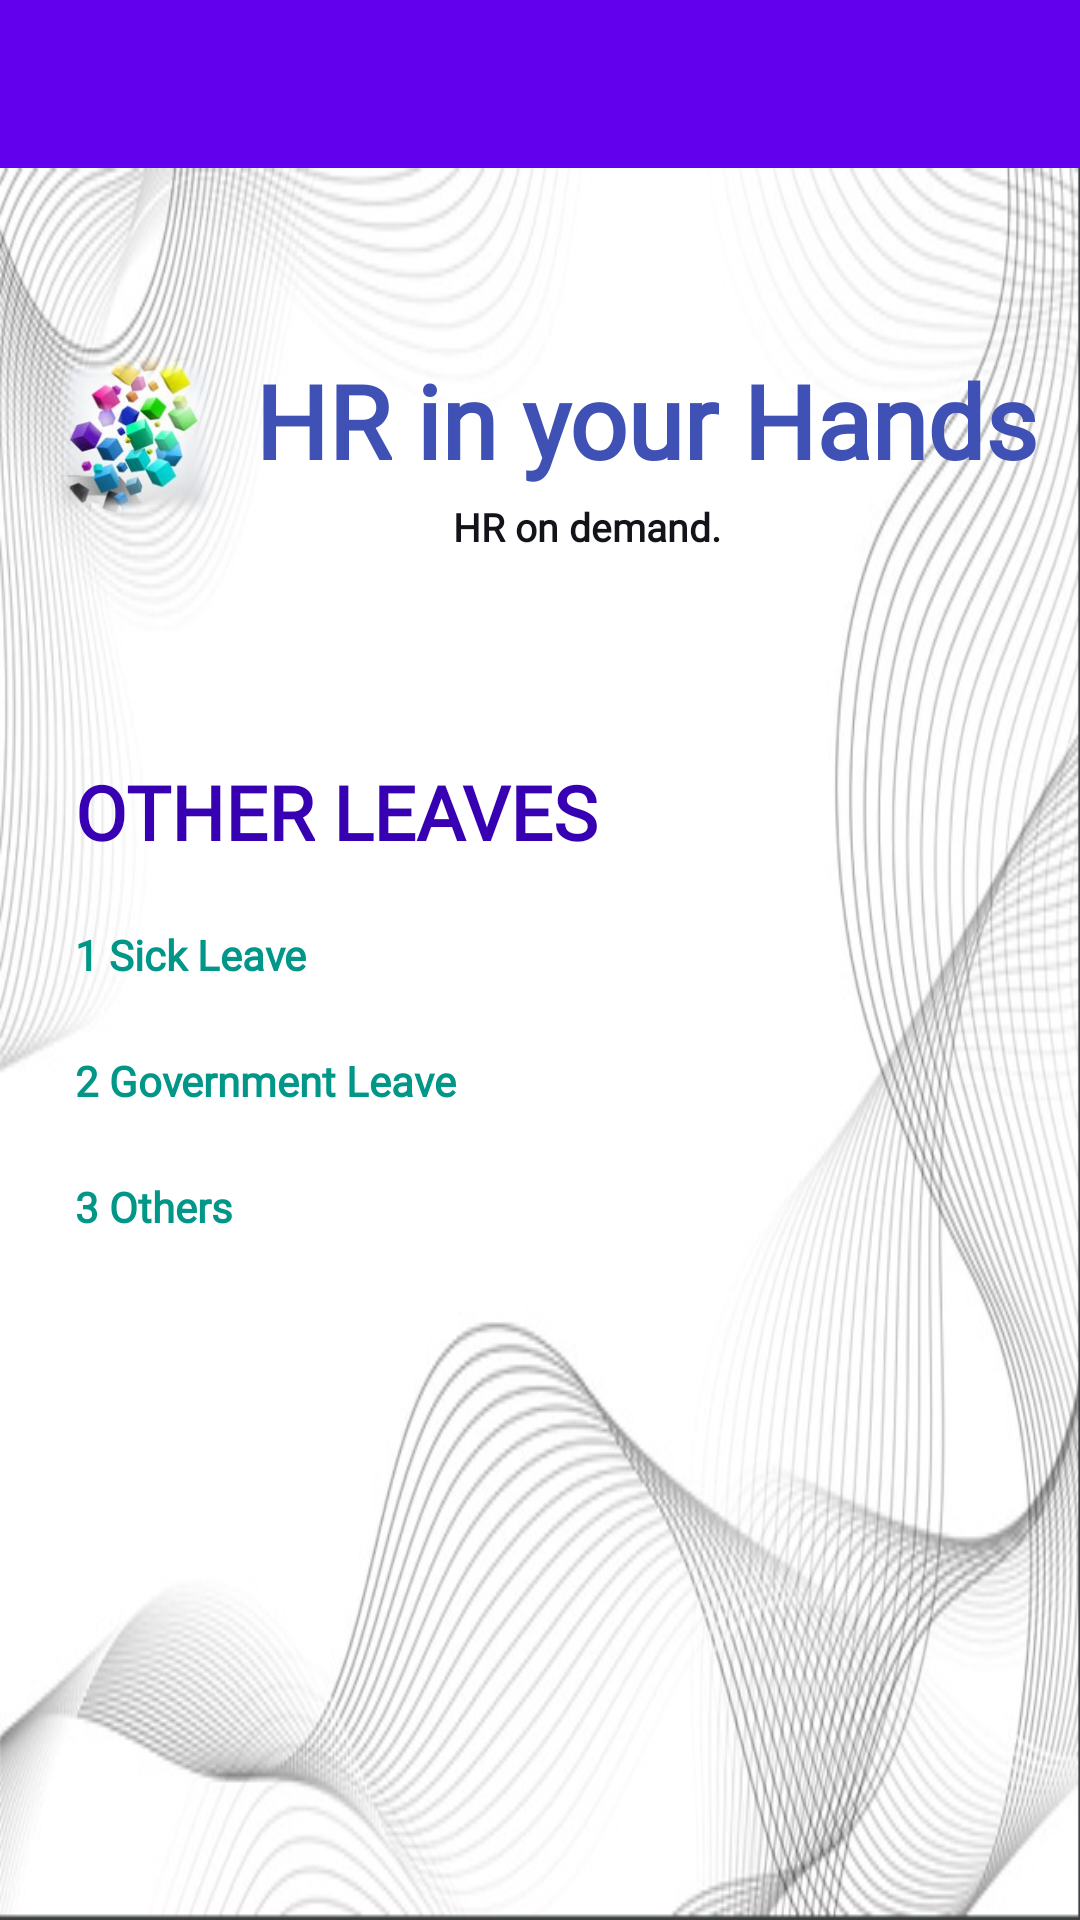

Point at icon controls on the screen. Image size 1080w x 1920h, points as (x=x, y=y).
blocks: (x=134, y=436)
